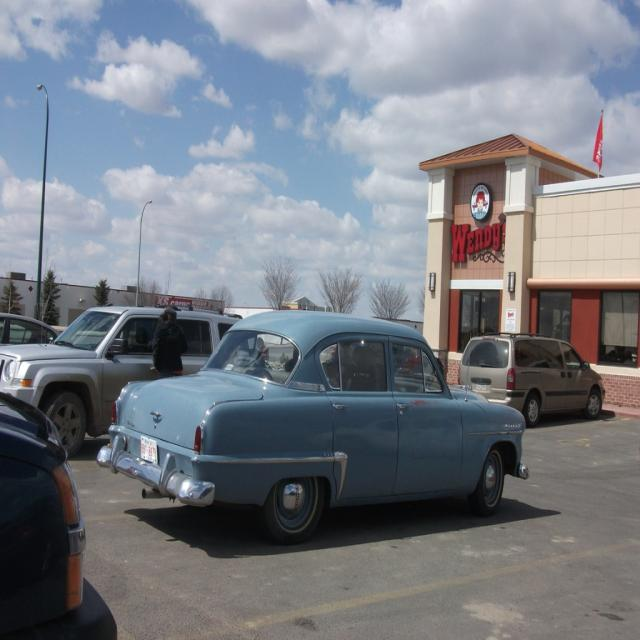car: (94, 319, 526, 545)
